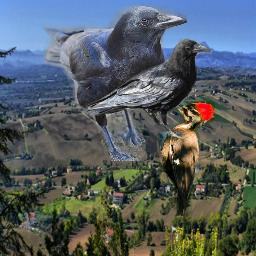Crow: (43, 5, 187, 161), (83, 37, 213, 139)
Woodpecker: (155, 99, 215, 217)
